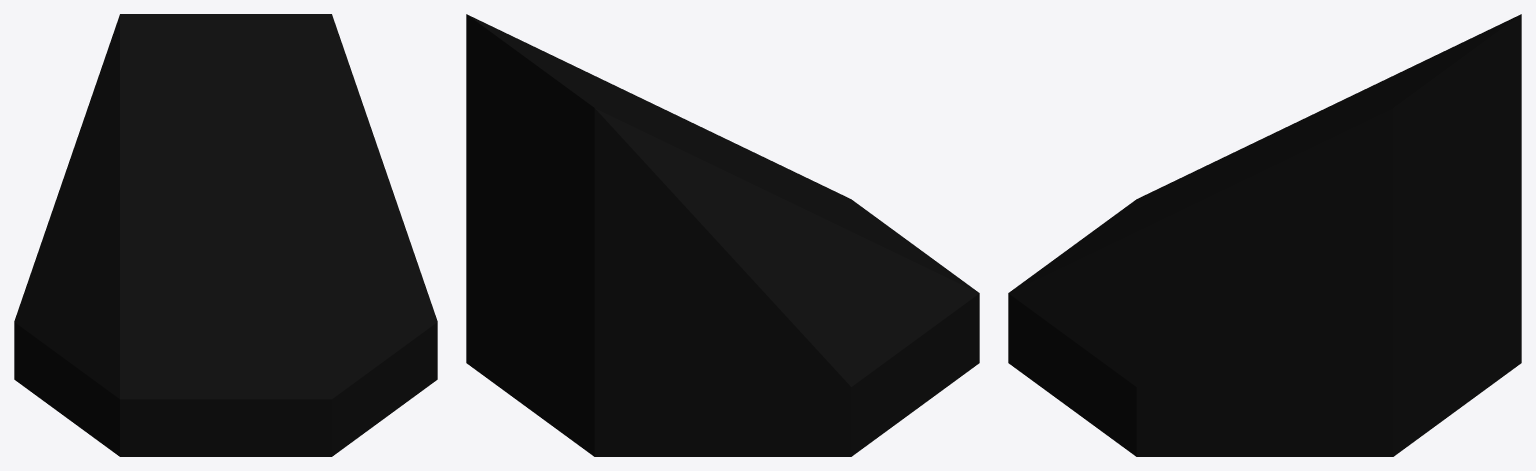
File: 2tile2.glb
3 views of the same model, side by side, from view 1: azimuth 30°, elevation 25°; view 2: azimuth 150°, elevation 25°; view 3: azimuth 270°, elevation 25° (orthographic). The views are drawn at different scales.
Visible parts, largest first — view 1: ChessStairTile; view 2: ChessStairTile; view 3: ChessStairTile.
Part boxes in pixels (x1,y1,x2,y2): ChessStairTile: (14,14,437,456); ChessStairTile: (466,14,979,456); ChessStairTile: (1008,14,1521,456).
Bounding box in the file's own units: 1.73 × 1.5 × 2.
1 material, 1 textured.
